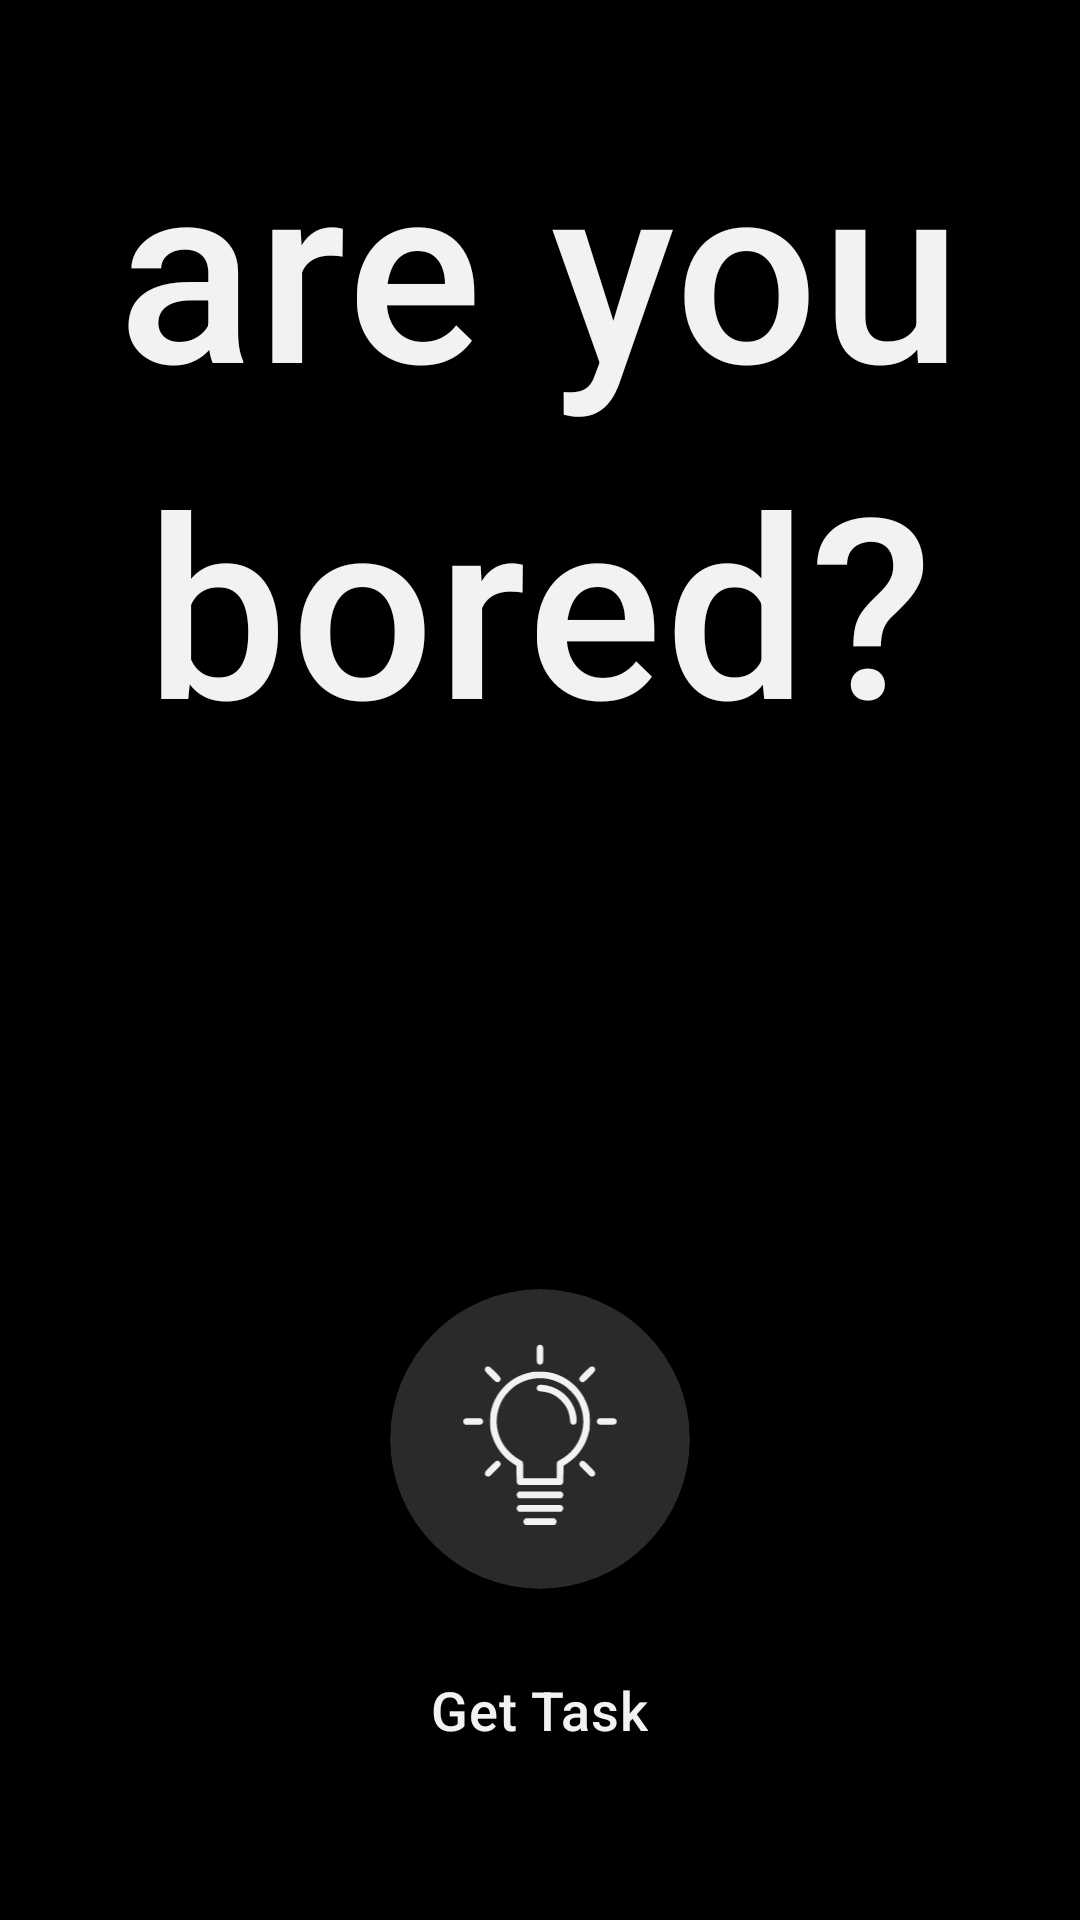

Screen size 1080x1920. Icon name, then its center in pixels as (x,y):
idea: (540,1434)
